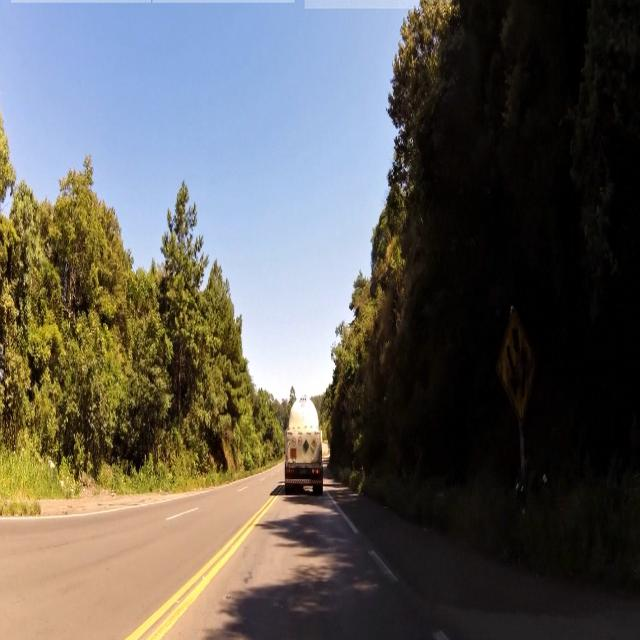A-42a: (496, 304, 540, 419)
